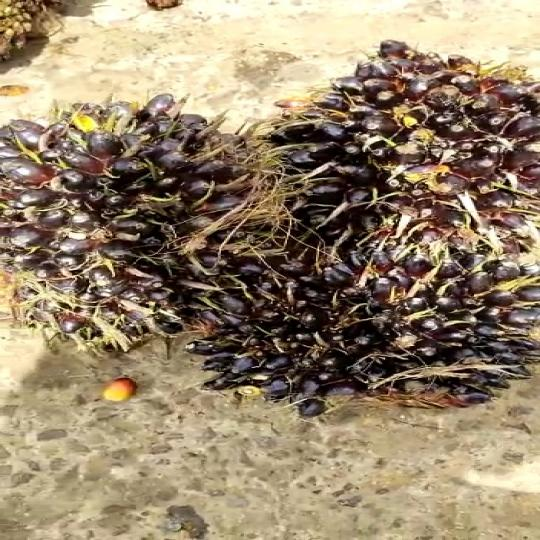mentah: (0, 90, 271, 359), (259, 32, 540, 256), (193, 248, 538, 419)
